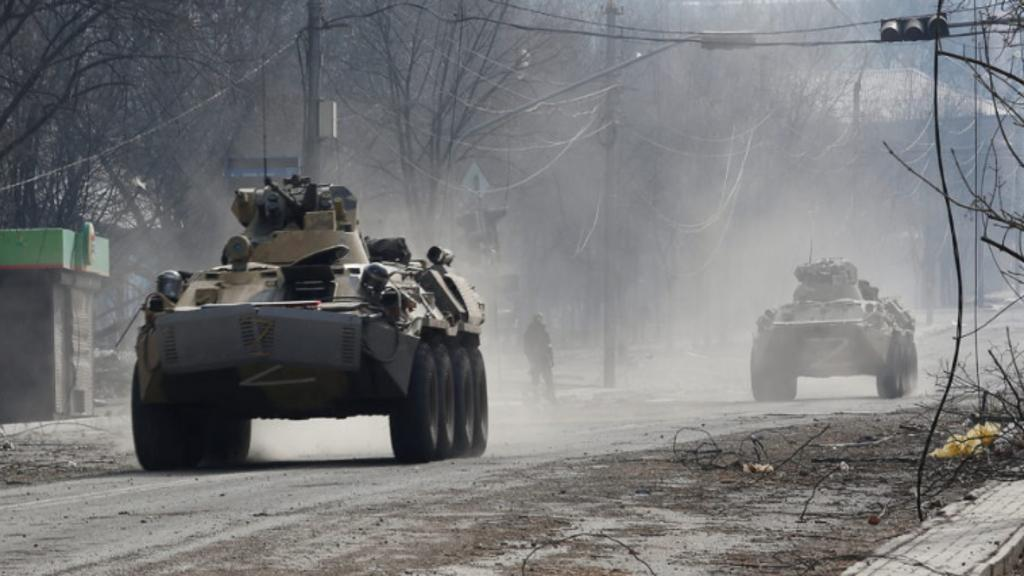APC-IFV: (124, 170, 493, 454), (745, 252, 923, 396)
